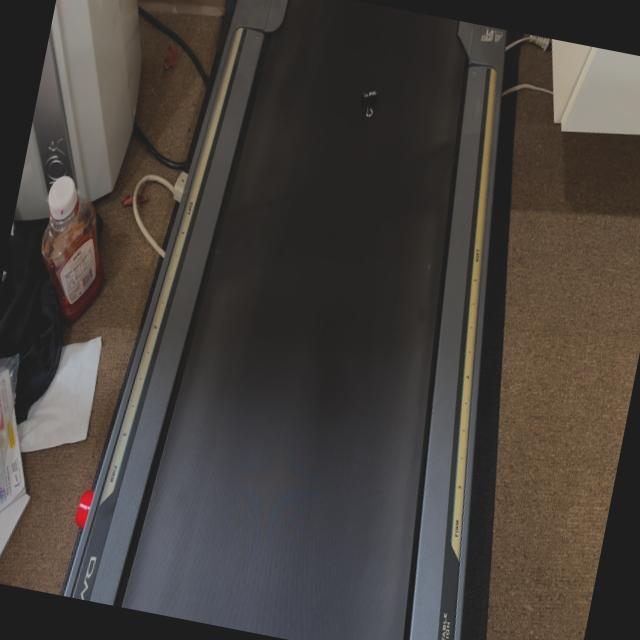Trash: (352, 84, 388, 141)
